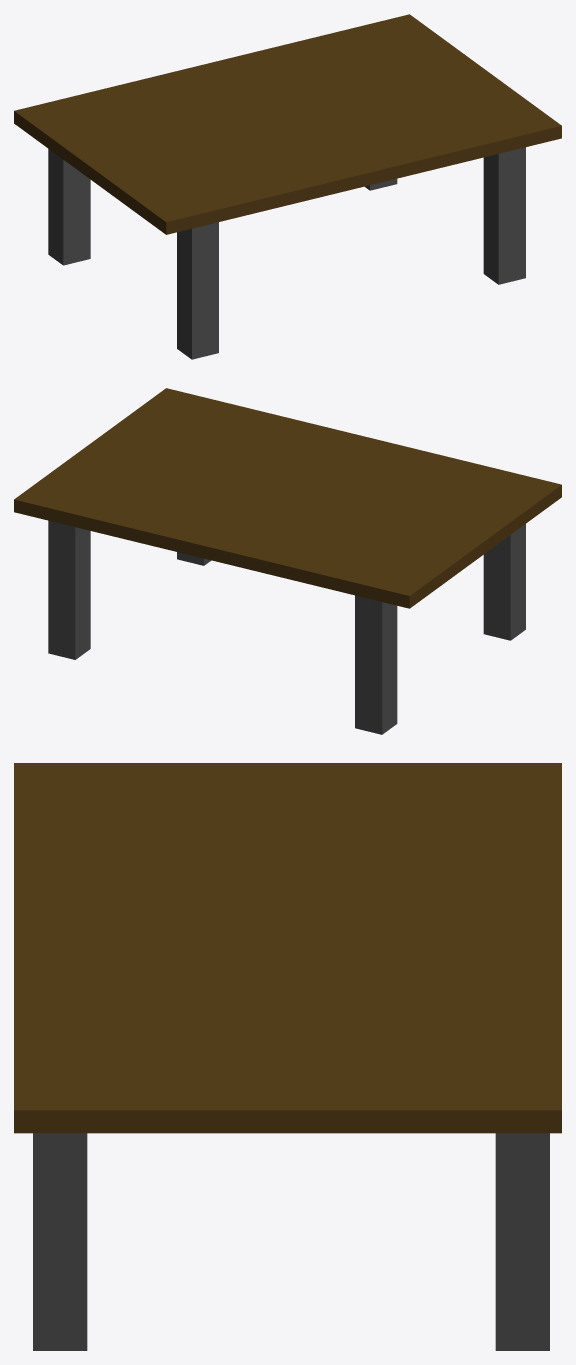
File: table.fbx
The picture shows the model from 3 angles, top to bottom: view 1: azimuth 30°, elevation 25°; view 2: azimuth 150°, elevation 25°; view 3: azimuth 270°, elevation 25°; orthographic projection. The views are drawn at different scales.
Visible parts, largest first — view 1: Desk-Top, Desk_Legs; view 2: Desk-Top, Desk_Legs; view 3: Desk-Top, Desk_Legs.
Boxes of the visible parts, x1,y1,x2,y2 form: Desk-Top: (14,14,561,234); Desk_Legs: (48,147,525,359); Desk-Top: (14,388,561,608); Desk_Legs: (48,520,525,734); Desk-Top: (14,763,561,1133); Desk_Legs: (33,1133,549,1350).
Bounding box in the file's own units: 215 × 77.18 × 143.
